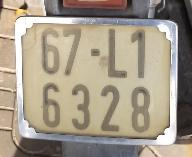1: (131, 26, 152, 81)
2: (98, 83, 124, 135)
3: (68, 82, 94, 133)
6: (38, 26, 61, 77), (40, 80, 62, 129)
7: (62, 25, 83, 77)
8: (129, 85, 153, 136)
L: (104, 26, 129, 80)
